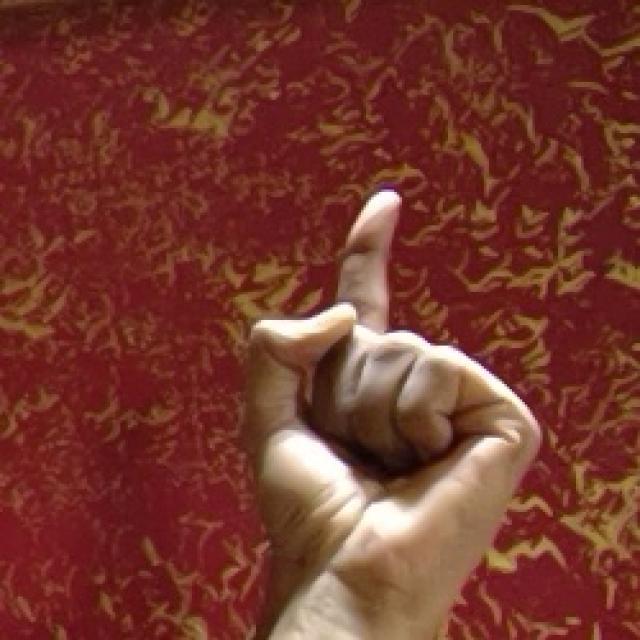Numeric-1: (242, 188, 538, 616)
